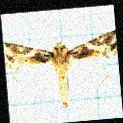Spodoptera litura: (5, 24, 118, 108)
